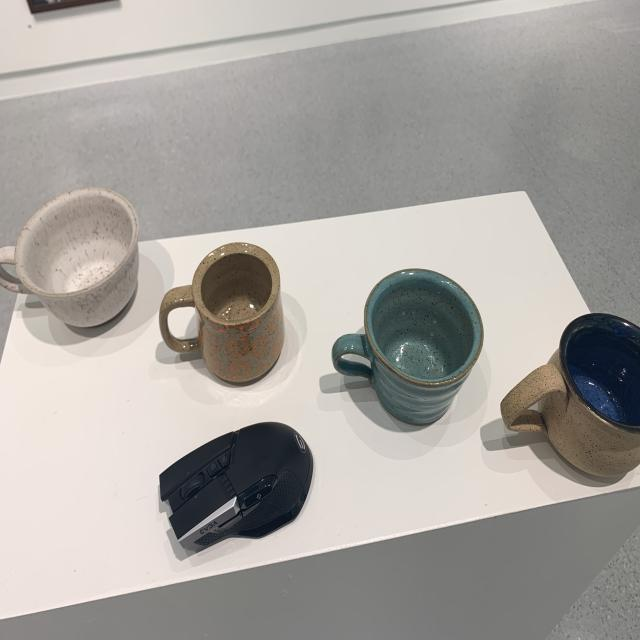Cup: (500, 280, 640, 489), (330, 266, 487, 432), (0, 181, 144, 338), (160, 230, 292, 396)
Mouse: (156, 424, 318, 557)
